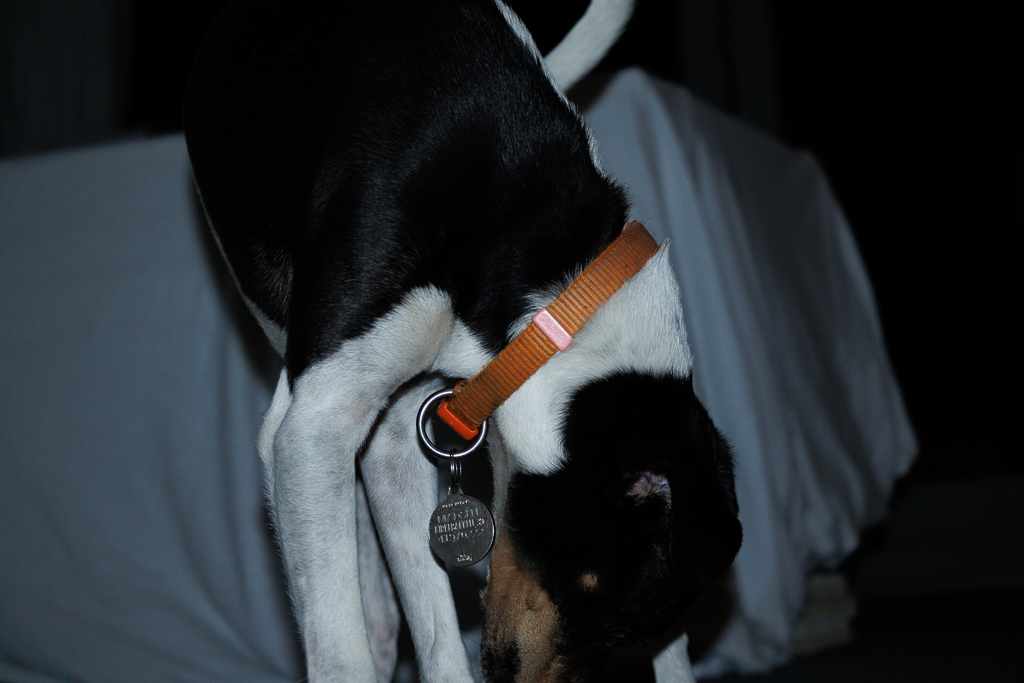Dog: (164, 0, 751, 683)
